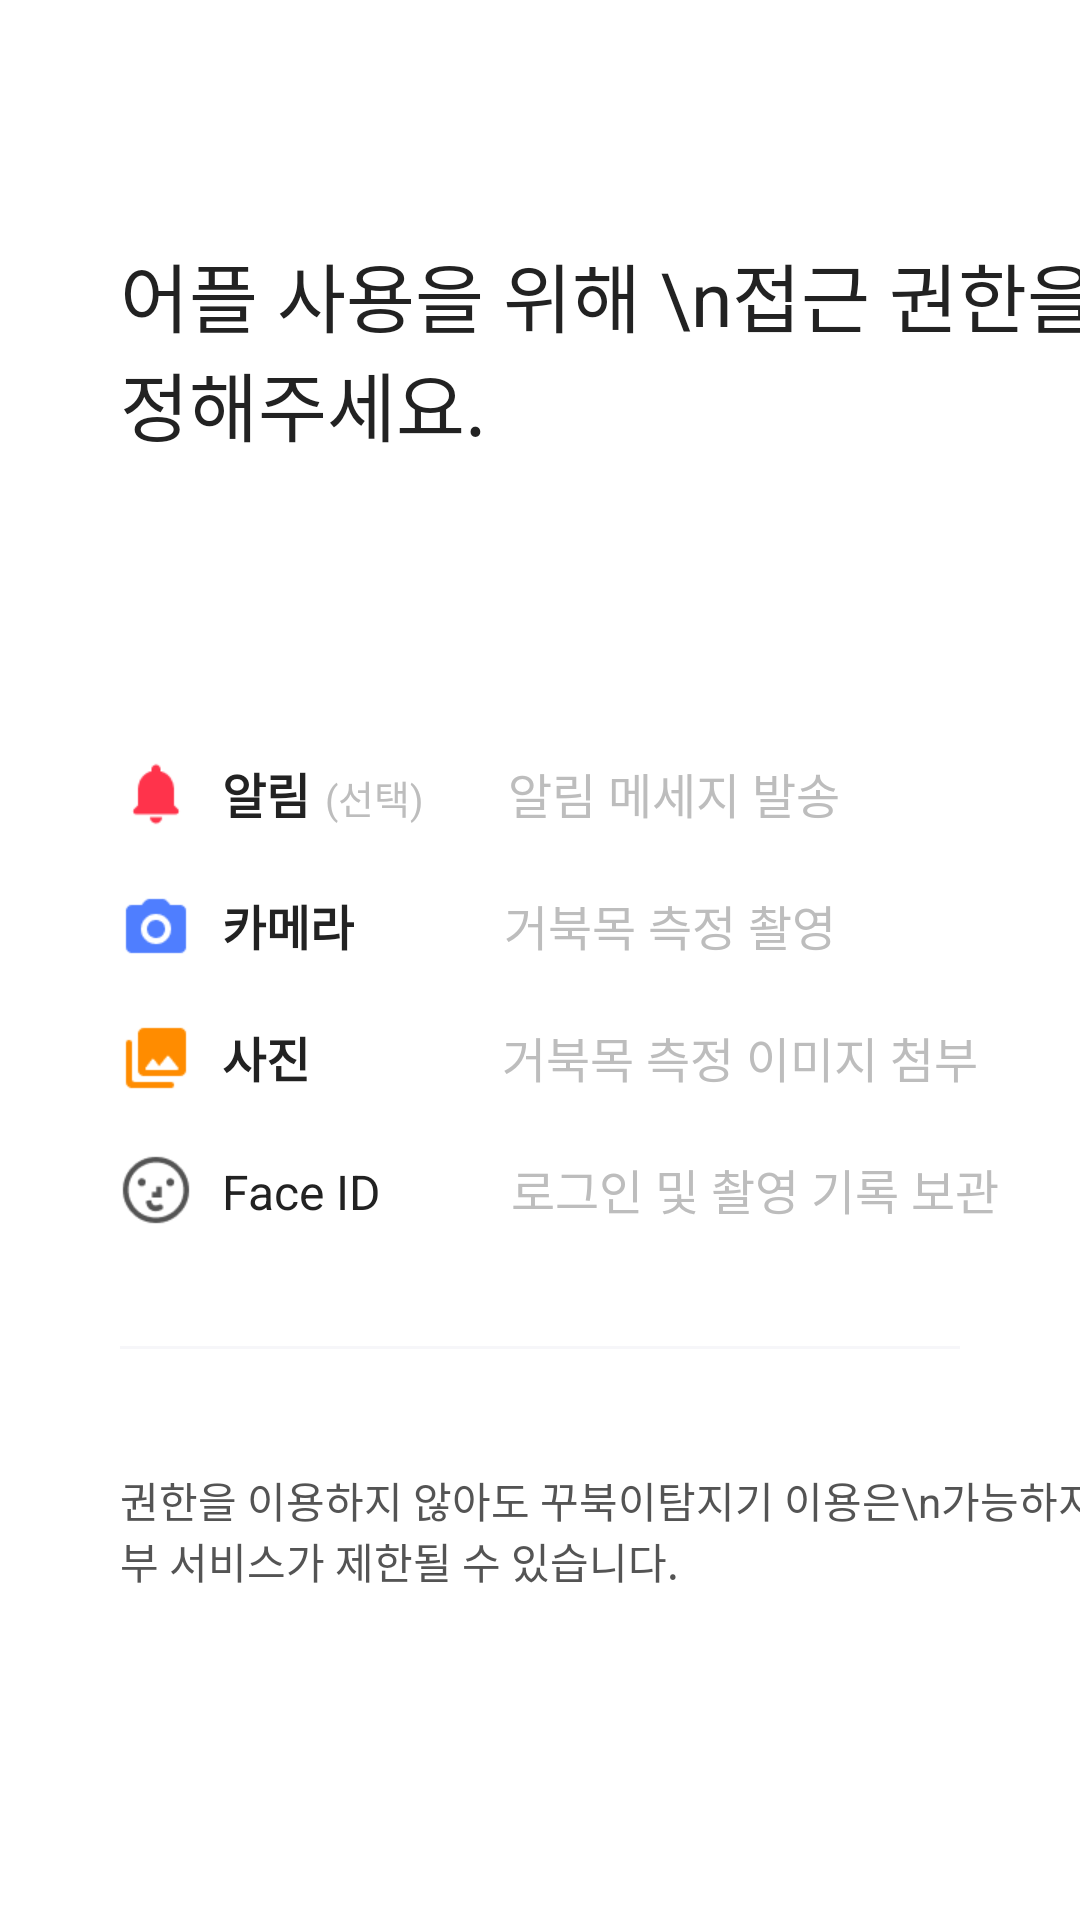

Named icons in this screenshot (1080 × 1920) and their bounding boxes, (left=x1, top=y1, right=x2, bottom=y2):
camera: (left=125, top=898, right=187, bottom=954)
photos: (left=125, top=1027, right=187, bottom=1089)
ring: (left=133, top=764, right=179, bottom=824)
